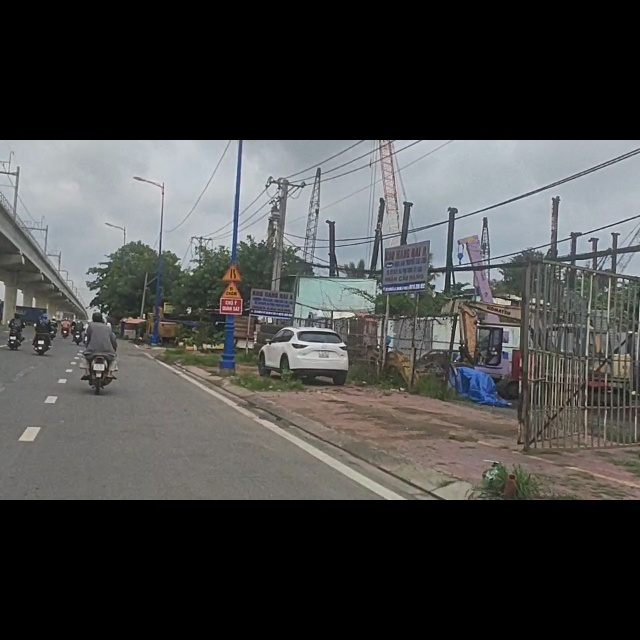bien_nguy_hiem: (220, 251, 244, 282), (221, 220, 243, 250)
